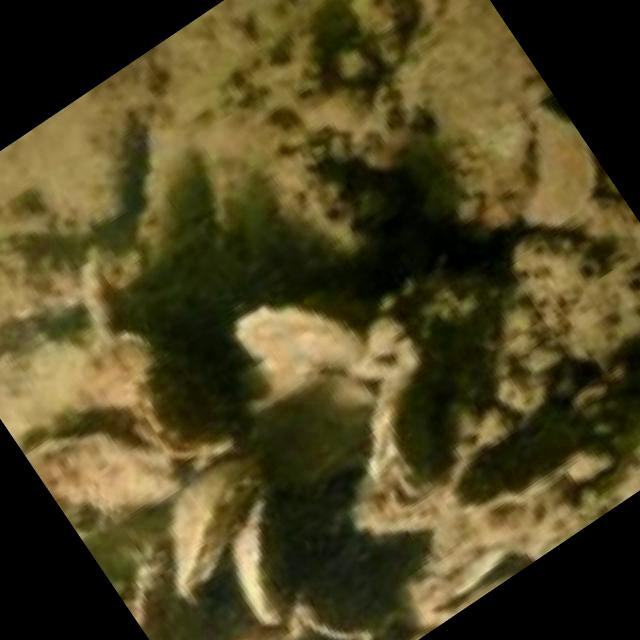Oyster-Closed: (455, 365, 640, 541), (161, 456, 261, 595), (37, 418, 185, 504), (13, 324, 135, 414), (233, 294, 357, 373), (134, 551, 234, 640), (528, 100, 598, 226), (233, 505, 294, 625)
Oyster-Open: (121, 337, 239, 455)
